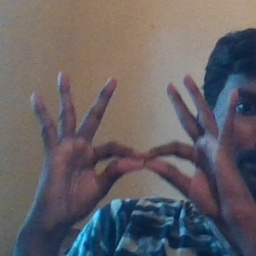B: (74, 107, 201, 203)
